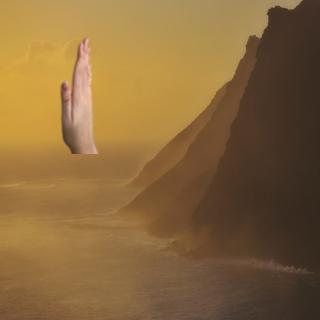Right: (49, 29, 105, 152)
